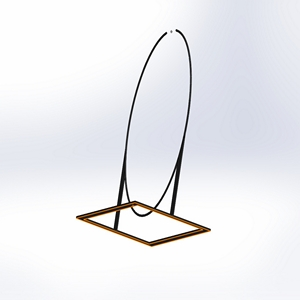circle: (75, 28, 213, 248)
